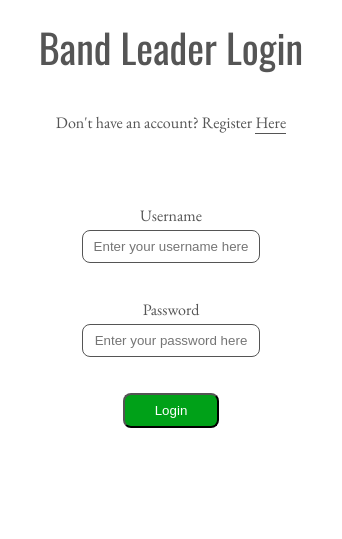
Test: <BandleaderLoginPage/> › Register Button takes you to the Bandleader Register Page
Click the link "Here" at (271, 123), box x1=255 y1=112 x2=286 y2=134
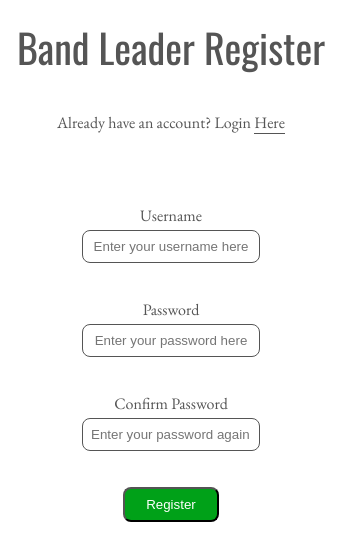
Expected: the heading "Band Leader Register" is shown, x1=17 y1=17 x2=325 y2=77
